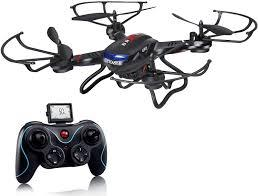drone: (0, 0, 258, 110)
